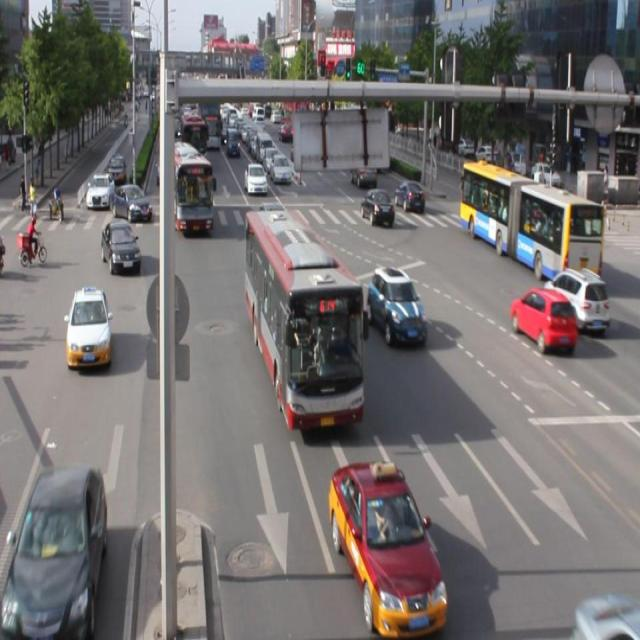car: (328, 459, 446, 628), (0, 466, 106, 640), (366, 266, 427, 348), (507, 287, 576, 352), (542, 267, 608, 332), (66, 286, 111, 372), (102, 221, 142, 277)
van: (245, 211, 362, 429), (461, 162, 602, 284)
